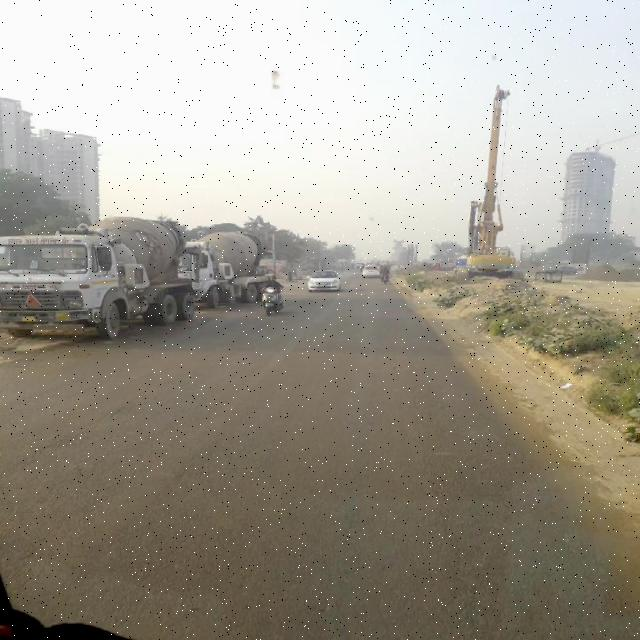D00: (408, 378, 480, 580), (11, 397, 134, 487)
